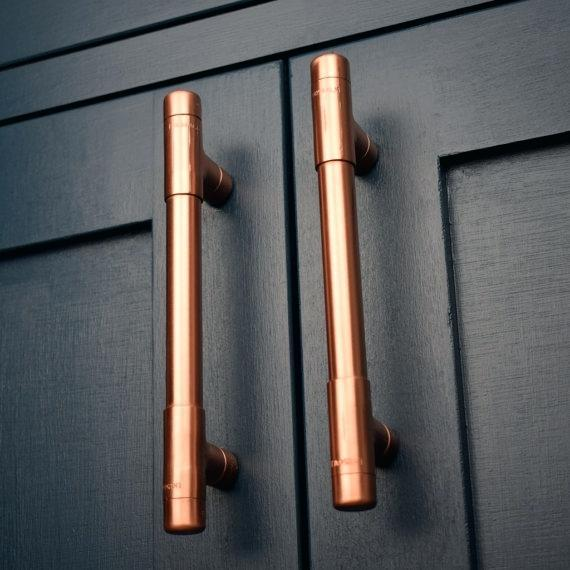cabinet_door: (296, 54, 570, 570), (12, 98, 285, 551)
handle: (290, 50, 406, 506), (142, 82, 238, 544)
